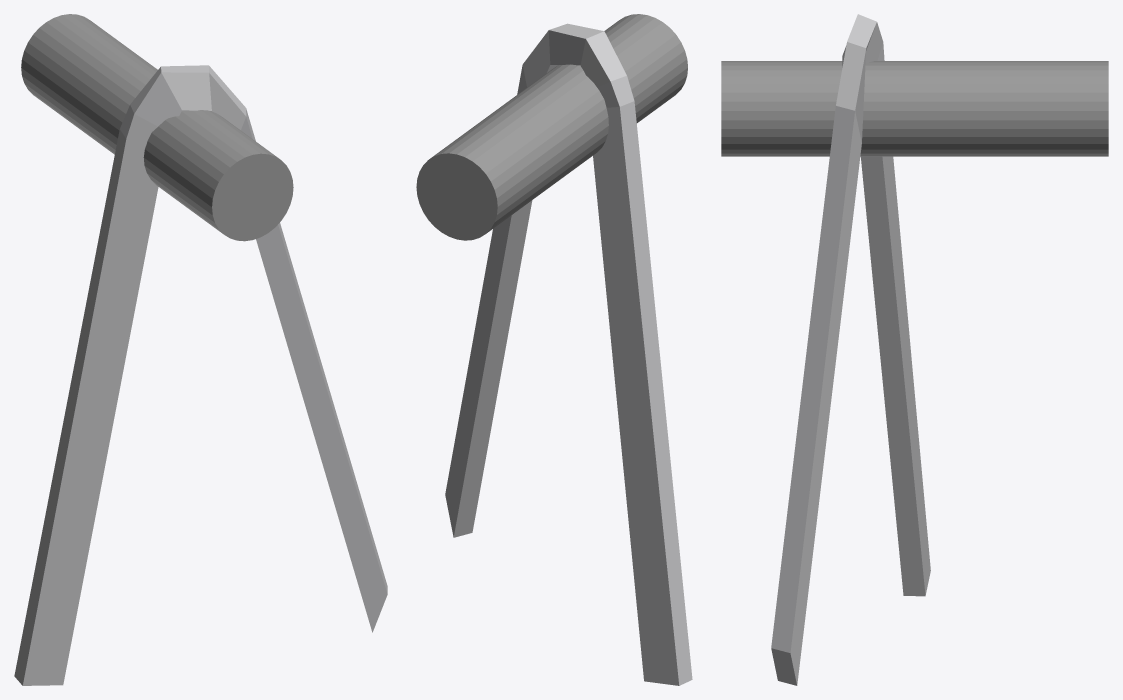
File: HangBird.glb
3 views of the same model, side by side, from view 1: azimuth 30°, elevation 25°; view 2: azimuth 150°, elevation 25°; view 3: azimuth 270°, elevation 25° (orthographic).
Visible parts, largest first — view 1: HoldHouse.001, HoldHouse; view 2: HoldHouse.001, HoldHouse; view 3: HoldHouse, HoldHouse.001.
Part boxes in pixels (x1=…): HoldHouse.001: x1=14, y1=65, x2=387, y2=685; HoldHouse: x1=21, y1=14, x2=293, y2=241; HoldHouse.001: x1=445, y1=23, x2=692, y2=685; HoldHouse: x1=416, y1=14, x2=687, y2=240; HoldHouse: x1=721, y1=61, x2=1108, y2=156; HoldHouse.001: x1=771, y1=14, x2=930, y2=685.
Size of the model in its own units: 0.119 by 0.2266 by 0.1284.
Materials: 2 (2 with a texture image).
